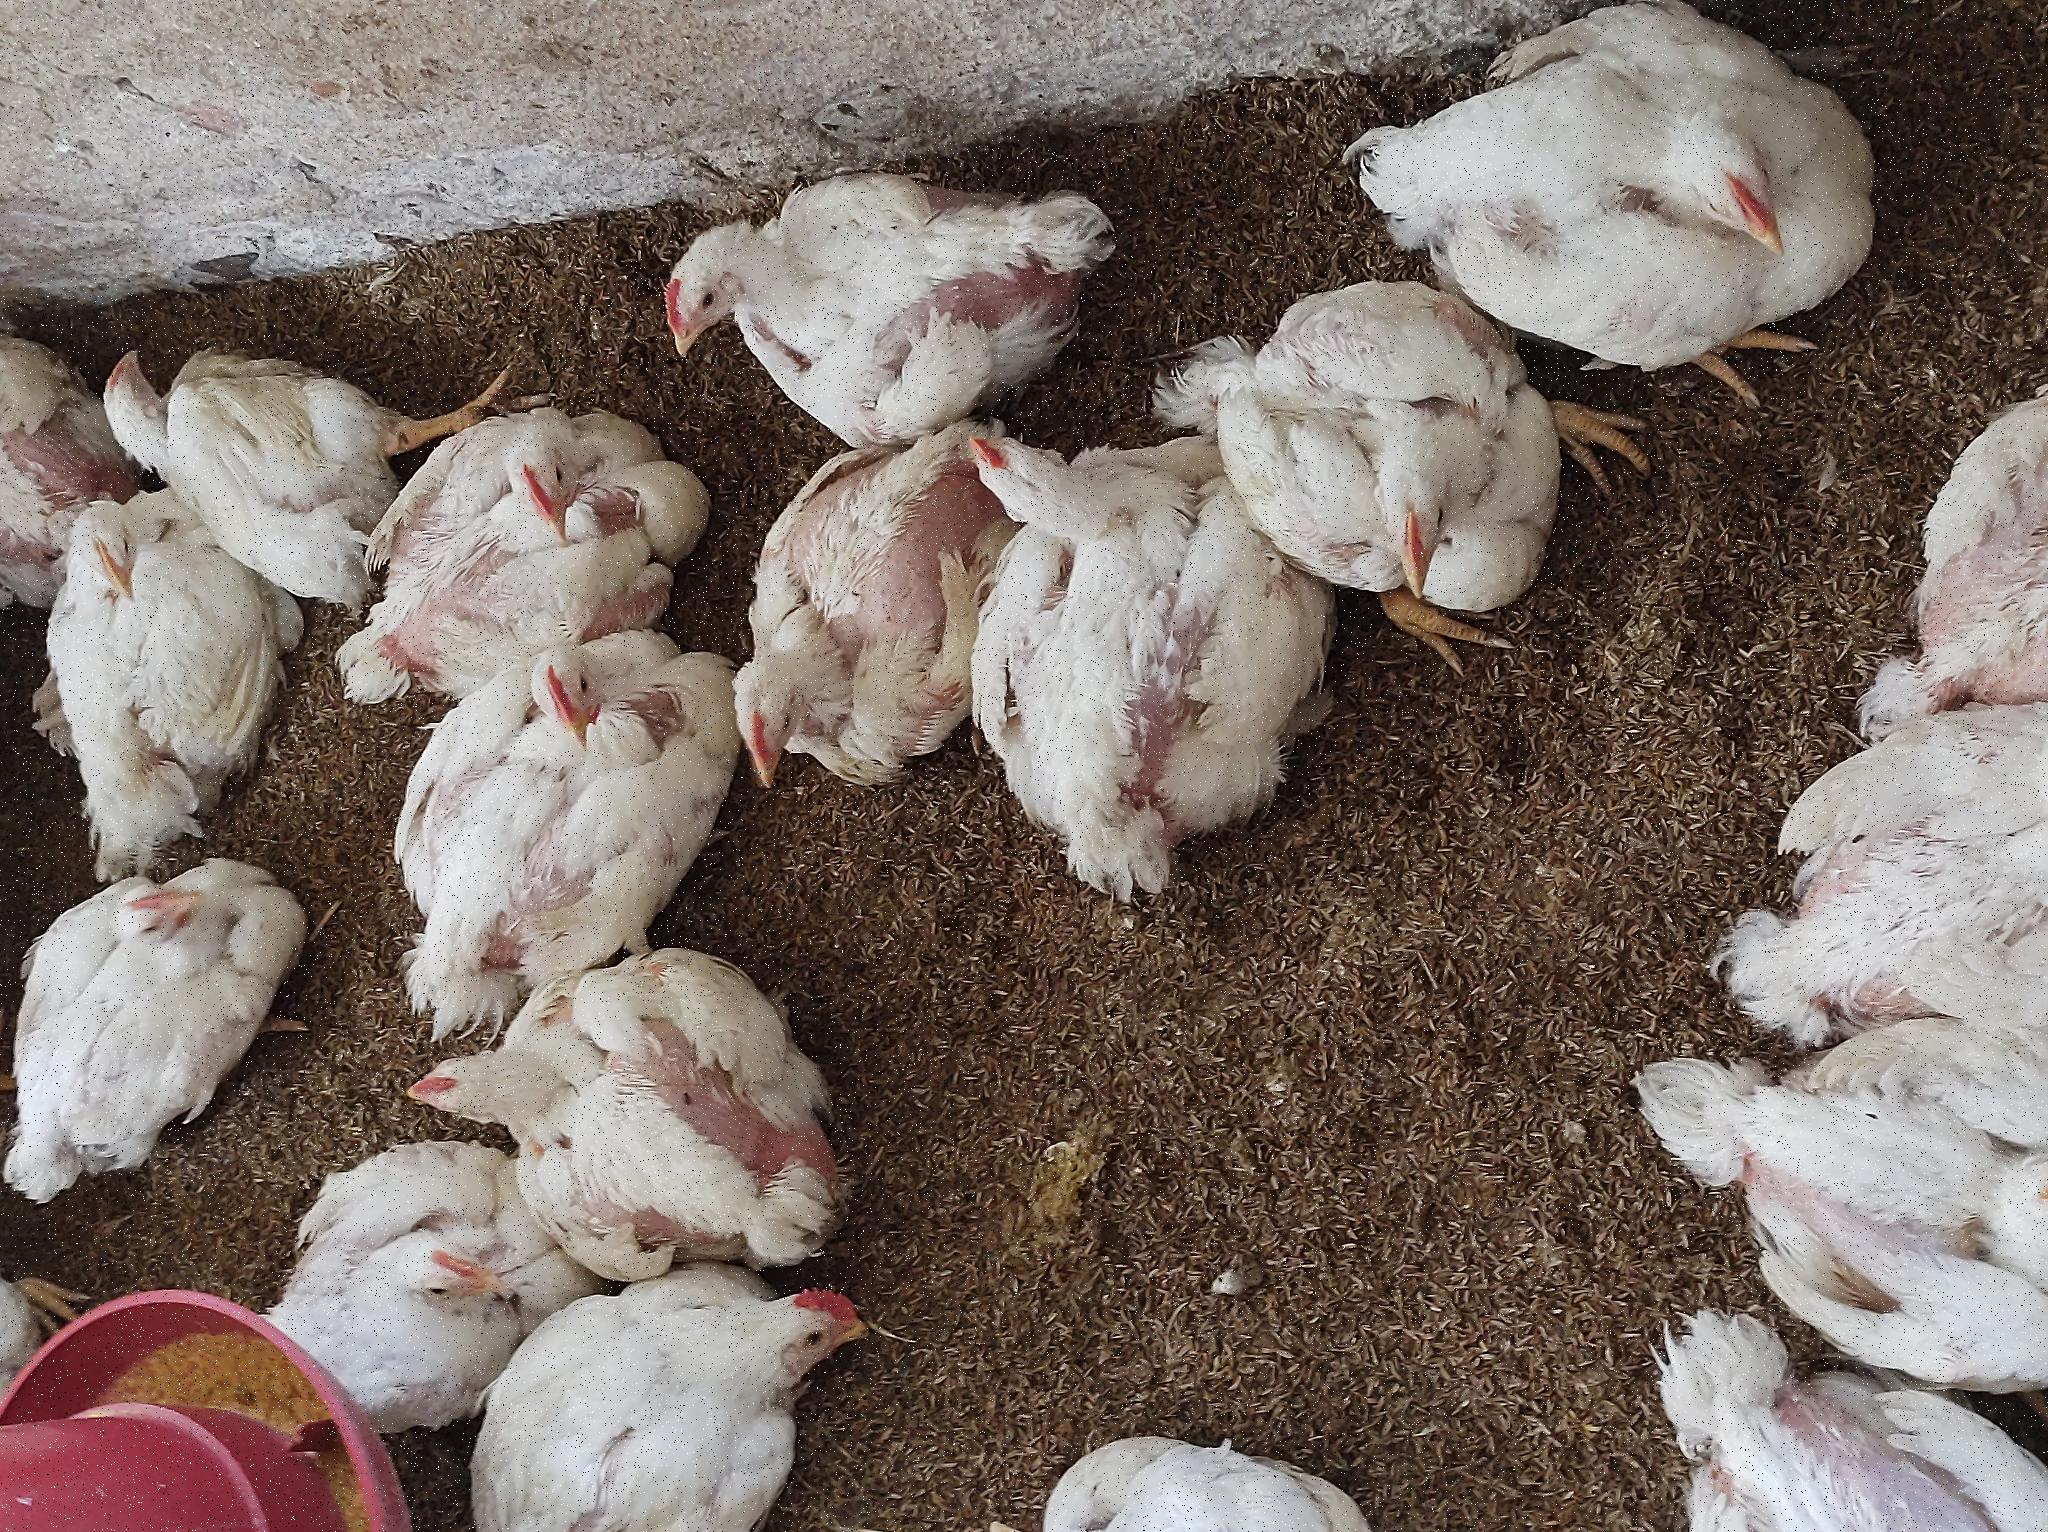Pollos: (602, 932, 1117, 1250), (862, 1151, 1252, 1532), (1099, 603, 1417, 1065), (256, 406, 587, 830), (327, 5, 698, 359), (570, 356, 915, 727), (13, 451, 277, 930), (623, 34, 1126, 248), (709, 732, 1117, 983), (938, 85, 1219, 401), (890, 338, 1121, 719), (1145, 1312, 1533, 1532), (108, 257, 399, 544), (2, 1038, 103, 1369)
